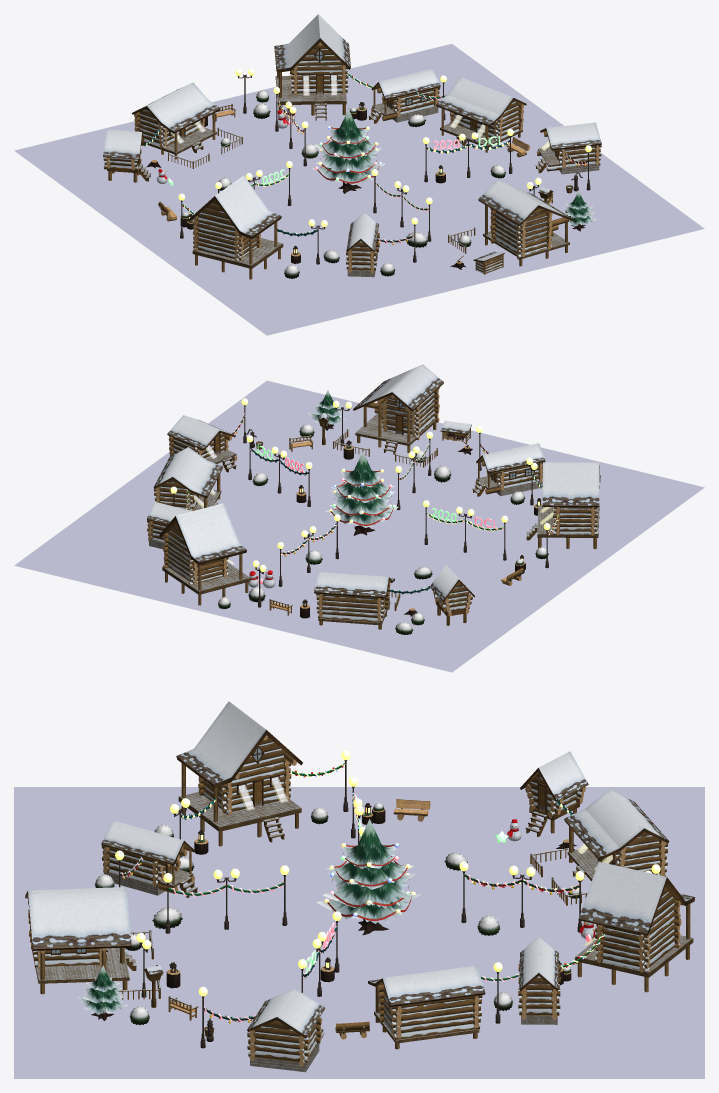
Rendered from XMASTown1.glb.
3 views of the same model, one above another, from view 1: azimuth 30°, elevation 25°; view 2: azimuth 150°, elevation 25°; view 3: azimuth 270°, elevation 25° (orthographic). The views are drawn at different scales.
Parts seen in each view (by area): view 1: Plane, Log_House_F, Log_House_F_1, Log_House_E, Log_House_D_1, Log_House_D, Big_XMAS_Tree, Log_House_B, Log_House_C, Log_House_A, Log_House_B_1, StreetLight_Garland_B_On (+4 smaller); view 2: Plane, Log_House_F_1, Log_House_E, Log_House_F, Log_House_D, Big_XMAS_Tree, Log_House_D_1, Log_House_B_1, Log_House_C, Log_House_A, Log_House_B, StreetLight_Garland_C_On (+5 smaller); view 3: Plane, Log_House_F, Log_House_F_1, Log_House_E, Log_House_D_1, Log_House_D, Big_XMAS_Tree, Log_House_C, Log_House_B_1, Log_House_A, Log_House_B, Pine_Tree_B (+4 smaller).
Part boxes in pixels (x1,y1,x2,y2): Plane: [14, 44, 704, 335]; Log_House_F: [188, 175, 283, 279]; Log_House_F_1: [274, 14, 350, 120]; Log_House_E: [478, 180, 574, 266]; Log_House_D_1: [436, 77, 526, 152]; Log_House_D: [132, 82, 220, 159]; Big_XMAS_Tree: [312, 108, 385, 193]; Log_House_B: [368, 68, 440, 123]; Log_House_C: [535, 122, 601, 174]; Log_House_A: [103, 129, 150, 182]; Log_House_B_1: [346, 212, 379, 277]; StreetLight_Garland_B_On: [423, 129, 513, 182]; Plane: [14, 380, 704, 672]; Log_House_F_1: [159, 503, 250, 605]; Log_House_E: [353, 364, 443, 454]; Log_House_F: [526, 462, 600, 549]; Log_House_D: [314, 572, 394, 629]; Big_XMAS_Tree: [325, 449, 398, 535]; Log_House_D_1: [153, 447, 222, 510]; Log_House_B_1: [472, 443, 545, 496]; Log_House_C: [167, 415, 237, 472]; Log_House_A: [430, 565, 474, 625]; Log_House_B: [147, 501, 192, 549]; StreetLight_Garland_C_On: [423, 500, 507, 560]; Plane: [14, 787, 704, 1078]; Log_House_F: [176, 701, 302, 846]; Log_House_F_1: [574, 861, 695, 992]; Log_House_E: [25, 887, 136, 994]; Log_House_D_1: [368, 965, 485, 1049]; Log_House_D: [564, 789, 669, 881]; Big_XMAS_Tree: [317, 817, 420, 935]; Log_House_C: [247, 988, 325, 1072]; Log_House_B_1: [101, 820, 197, 897]; Log_House_A: [520, 751, 588, 836]; Log_House_B: [518, 936, 560, 1024]; Pine_Tree_B: [78, 965, 127, 1020].
Bounding box in the file's own units: 72 × 13.17 × 72.
15 materials, 7 textured.
